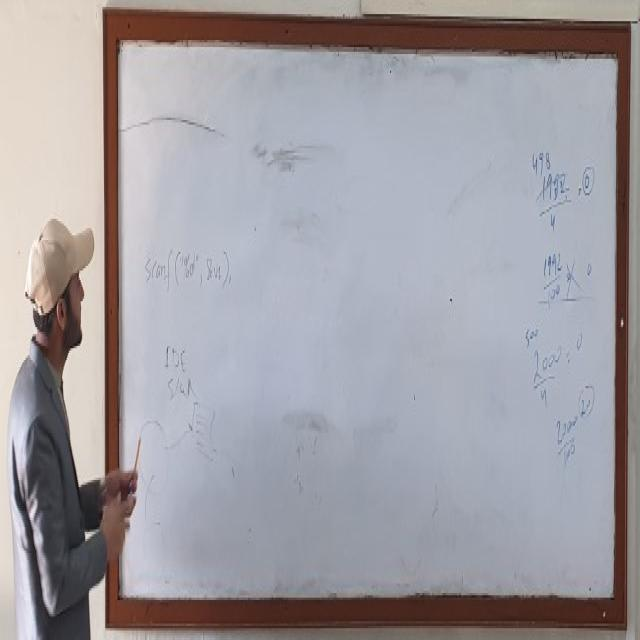Instructor: (1, 183, 103, 640)
White-board: (111, 21, 623, 614)
